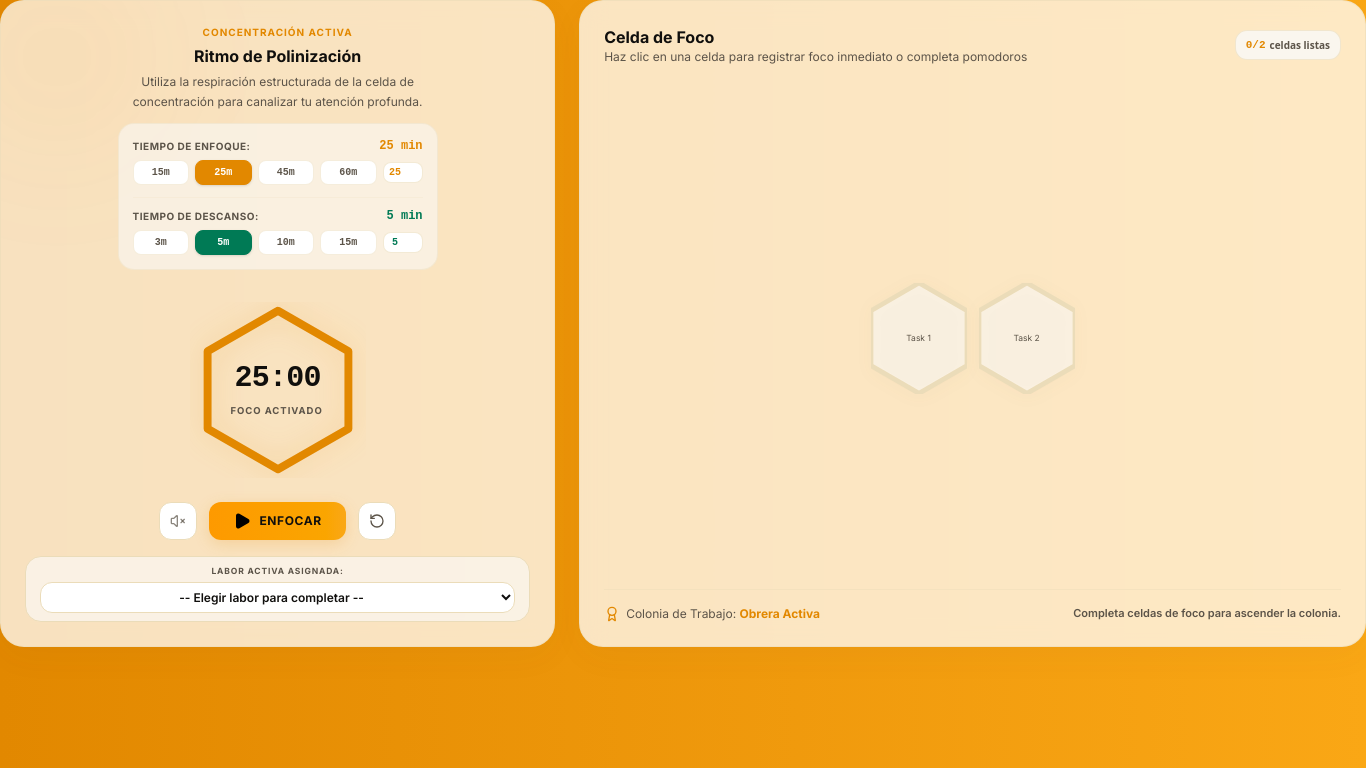
Test: FocusTimer › resets timer on reset click
Click the button "Enfocar": (278, 521) [209, 502, 346, 540]
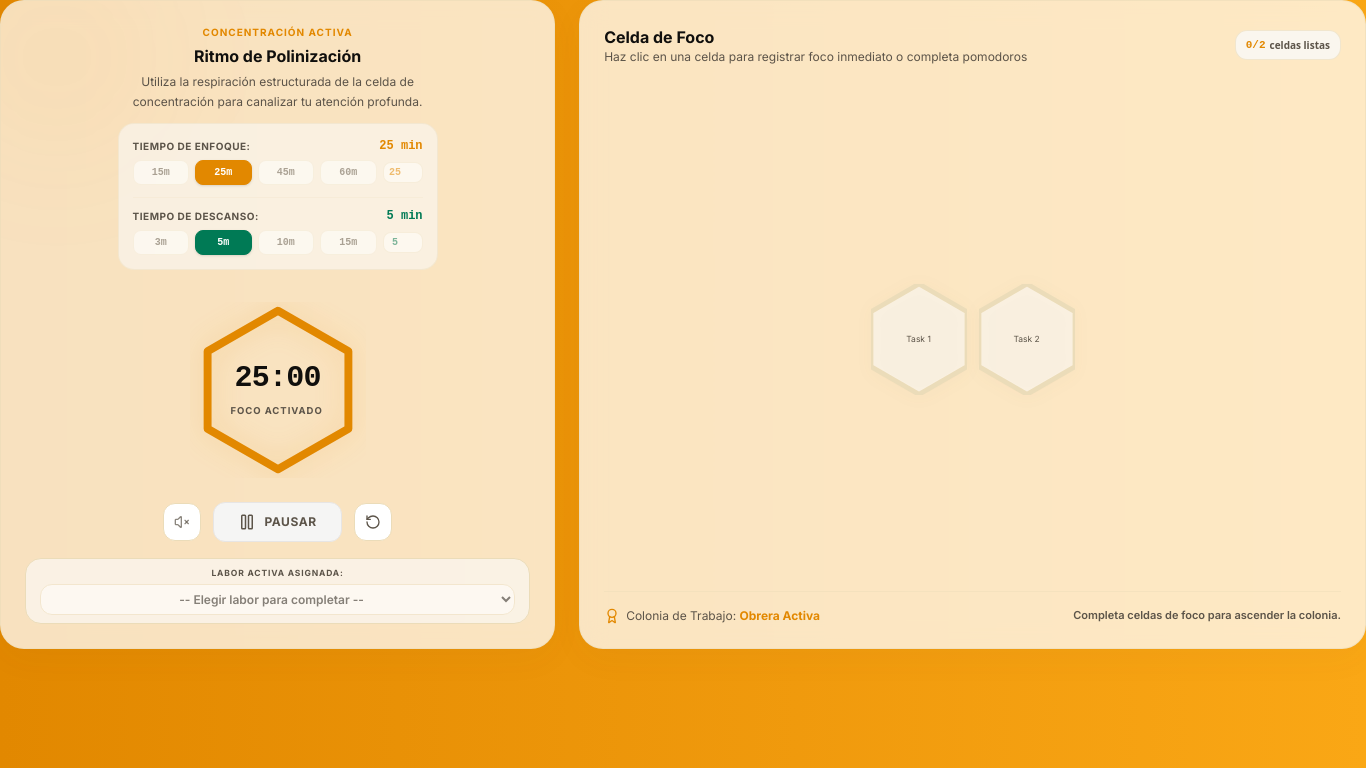
Click the button titled "Reiniciar Intervalo": (373, 522) [354, 503, 392, 541]
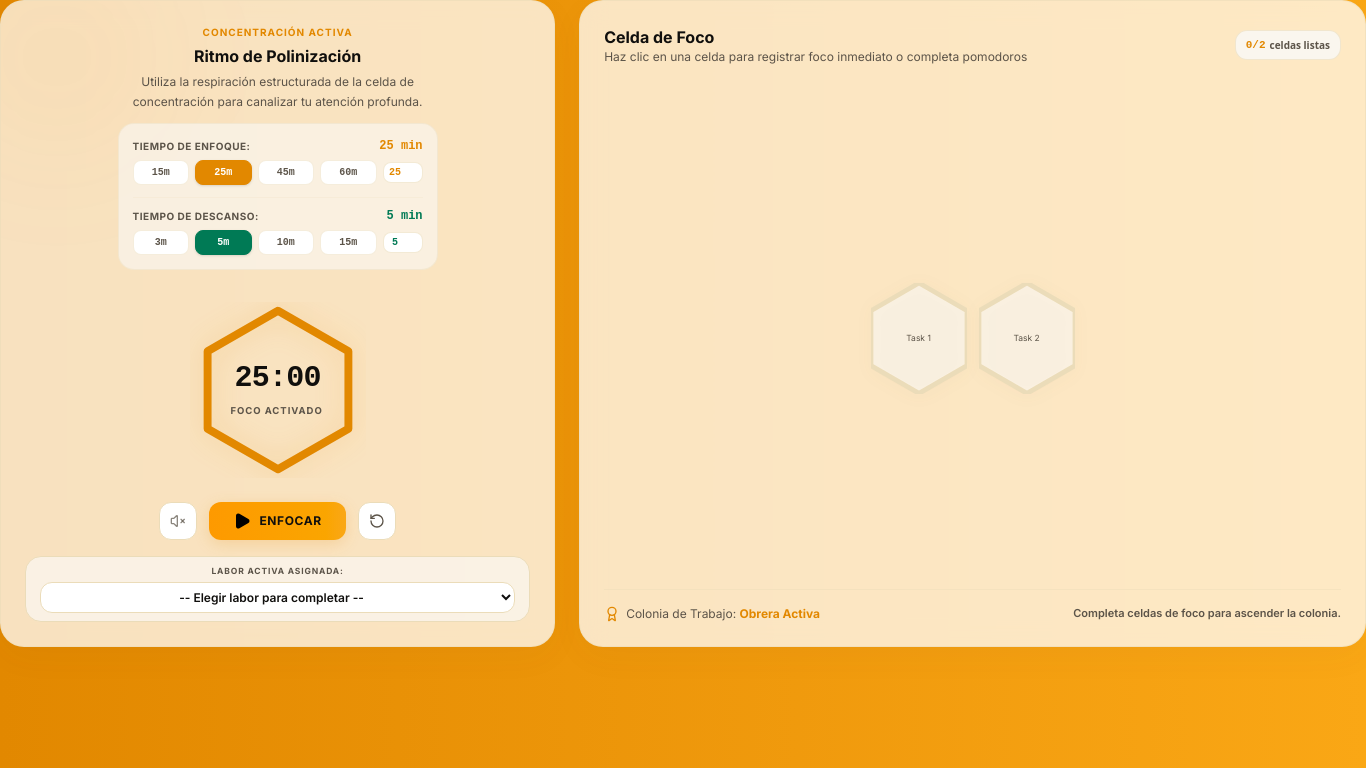
Check: the text "25:00" is shown, box [230, 360, 325, 396]
Check: the text "Enfocar" is shown, box [259, 513, 322, 529]
